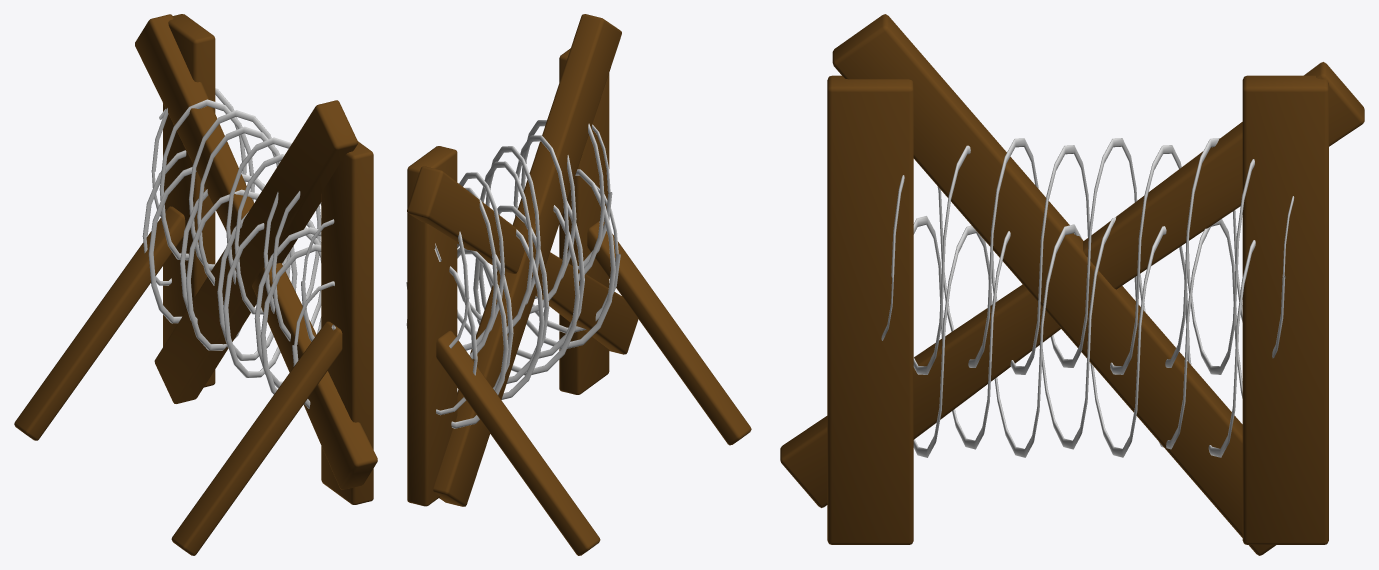
The model's file is BARRICADA DE ARAME FARPADO.dae.
3 renders of one model, left to right at view 1: azimuth 30°, elevation 25°; view 2: azimuth 150°, elevation 25°; view 3: azimuth 270°, elevation 25°, orthographic. The views are drawn at different scales.
Visible parts, largest first — view 1: Arame; view 2: Arame; view 3: Arame.
Boxes of the visible parts, left/top/right/bottom form: Arame: left=14, top=14, right=377, bottom=555; Arame: left=406, top=14, right=751, bottom=555; Arame: left=780, top=14, right=1364, bottom=555.
Size of the model in its own units: 1.92 by 3.45 by 3.51.
